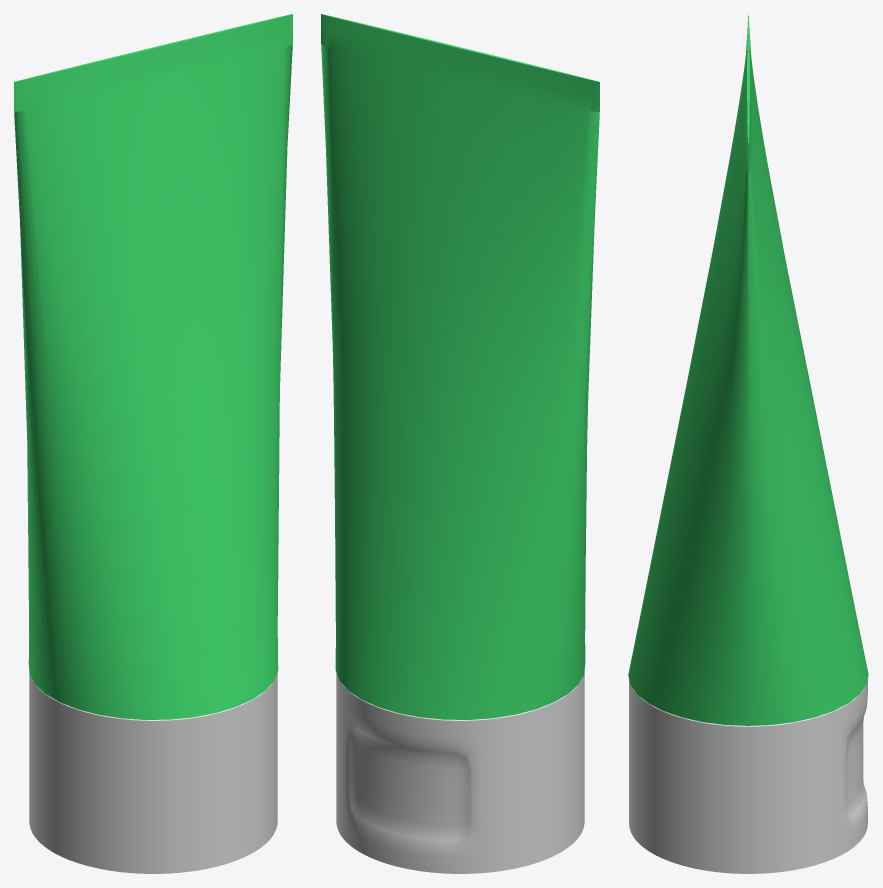
File: gel.glb
The picture shows the model from 3 angles, left to right: view 1: azimuth 30°, elevation 25°; view 2: azimuth 150°, elevation 25°; view 3: azimuth 270°, elevation 25°; orthographic projection. The views are drawn at different scales.
Visible parts, largest first — view 1: Cylinder.001, Cylinder; view 2: Cylinder.001, Cylinder; view 3: Cylinder.001, Cylinder.
Boxes of the visible parts, x1,y1,x2,y2 form: Cylinder.001: (14, 14, 292, 719); Cylinder: (29, 673, 277, 873); Cylinder.001: (321, 14, 599, 719); Cylinder: (336, 673, 584, 873); Cylinder.001: (628, 14, 868, 725); Cylinder: (629, 679, 867, 873).
Size of the model in its own units: 2.57 by 6.85 by 2.
